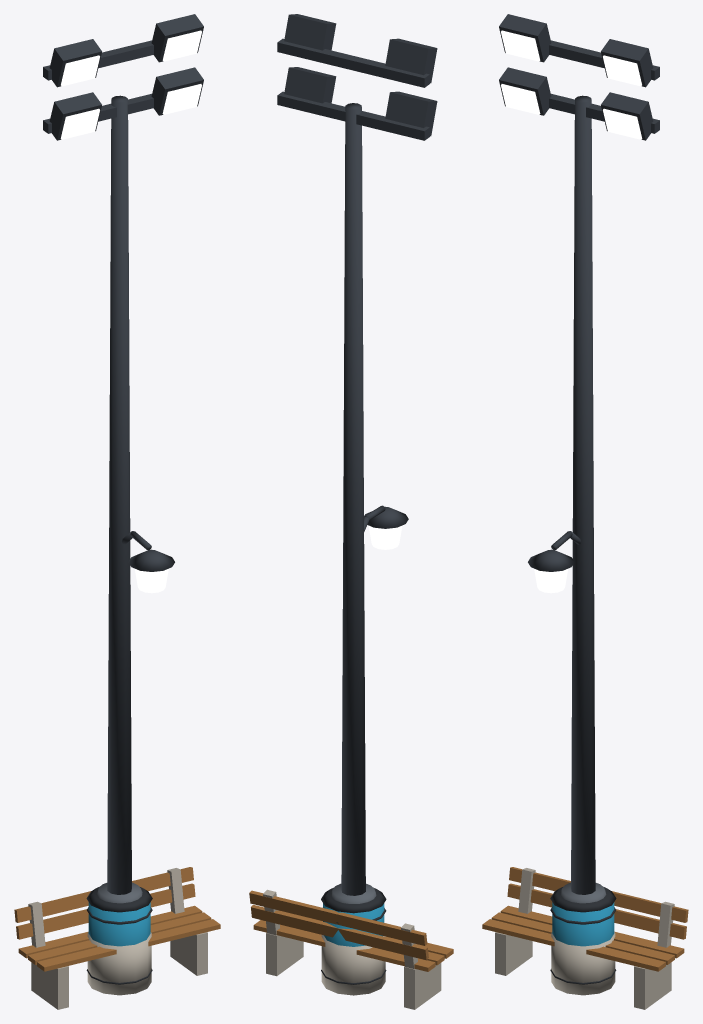
File: venice.glb
The picture shows the model from 3 angles, left to right: view 1: azimuth 30°, elevation 25°; view 2: azimuth 150°, elevation 25°; view 3: azimuth 330°, elevation 25°; orthographic projection.
Visible parts, largest first — view 1: vk_flood, vk_bench, vk_bin, vk_lamp, vk_fountain; view 2: vk_flood, vk_bench, vk_bin, vk_lamp, vk_fountain; view 3: vk_flood, vk_bench, vk_bin, vk_lamp, vk_fountain.
Boxes of the visible parts, box(x1,y1,x2,y2) form: vk_flood: box(43, 14, 203, 995); vk_bench: box(14, 867, 220, 1009); vk_bin: box(86, 887, 152, 984); vk_lamp: box(122, 531, 174, 593); vk_fountain: box(96, 882, 142, 903); vk_flood: box(277, 14, 437, 995); vk_bench: box(249, 889, 453, 1009); vk_bin: box(321, 887, 386, 984); vk_lamp: box(364, 505, 408, 549); vk_fountain: box(331, 883, 376, 903); vk_flood: box(499, 14, 659, 995); vk_bench: box(482, 867, 688, 1009); vk_bin: box(550, 887, 616, 984); vk_lamp: box(528, 531, 580, 593); vk_fountain: box(560, 882, 606, 903).
Size of the model in its own units: 1.9 by 9.84 by 1.14.
